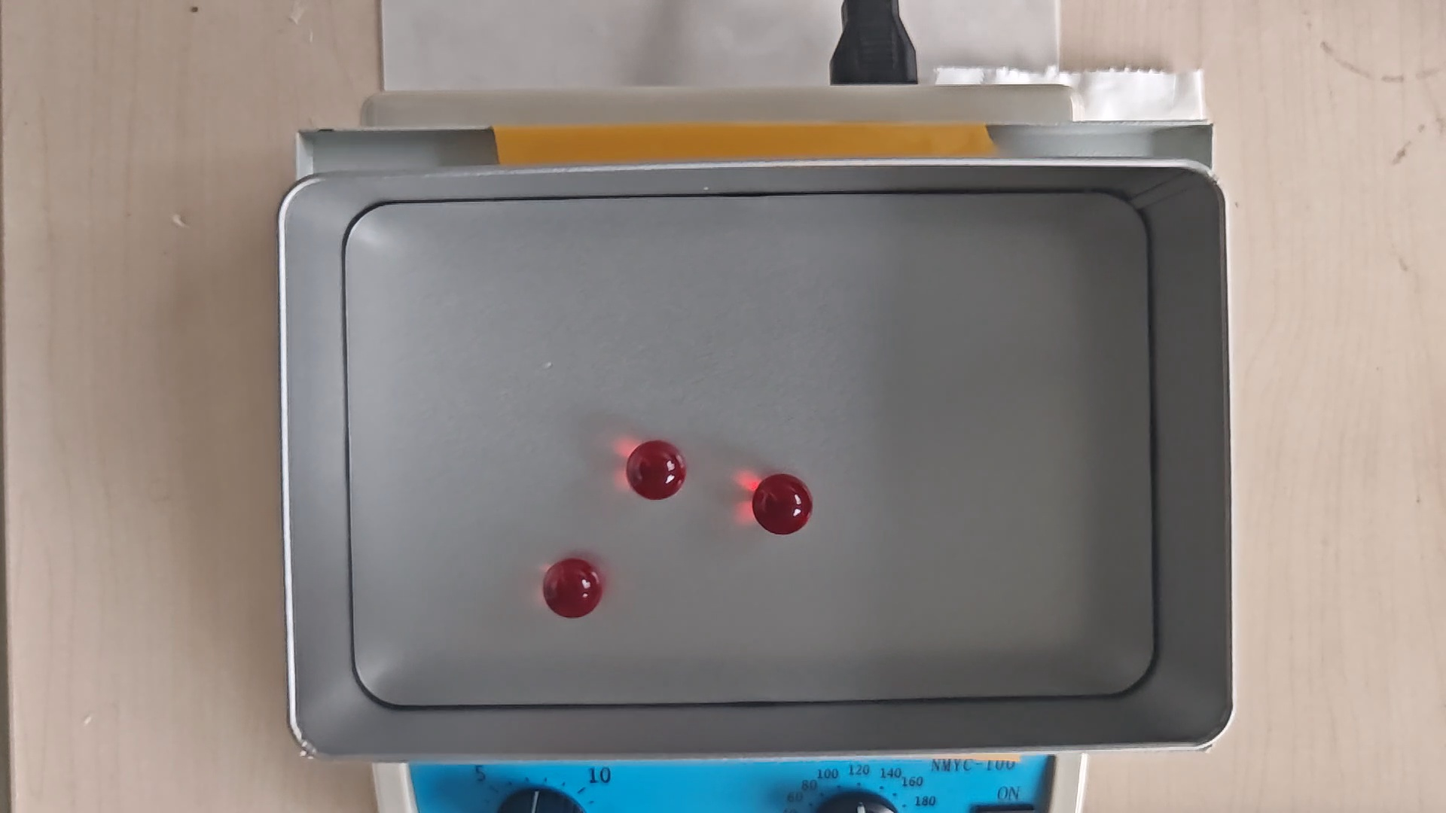ball: (753, 473, 813, 537), (543, 558, 604, 620), (627, 441, 684, 500)
container: (342, 193, 1153, 701)
